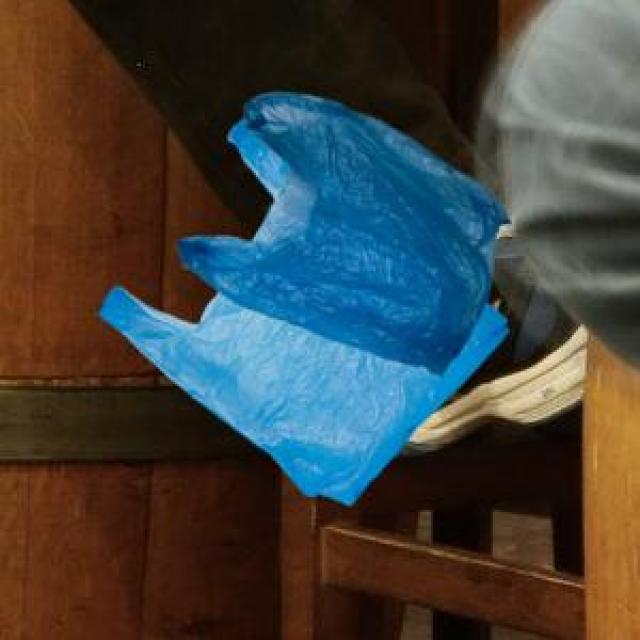plastic: (80, 83, 522, 525)
